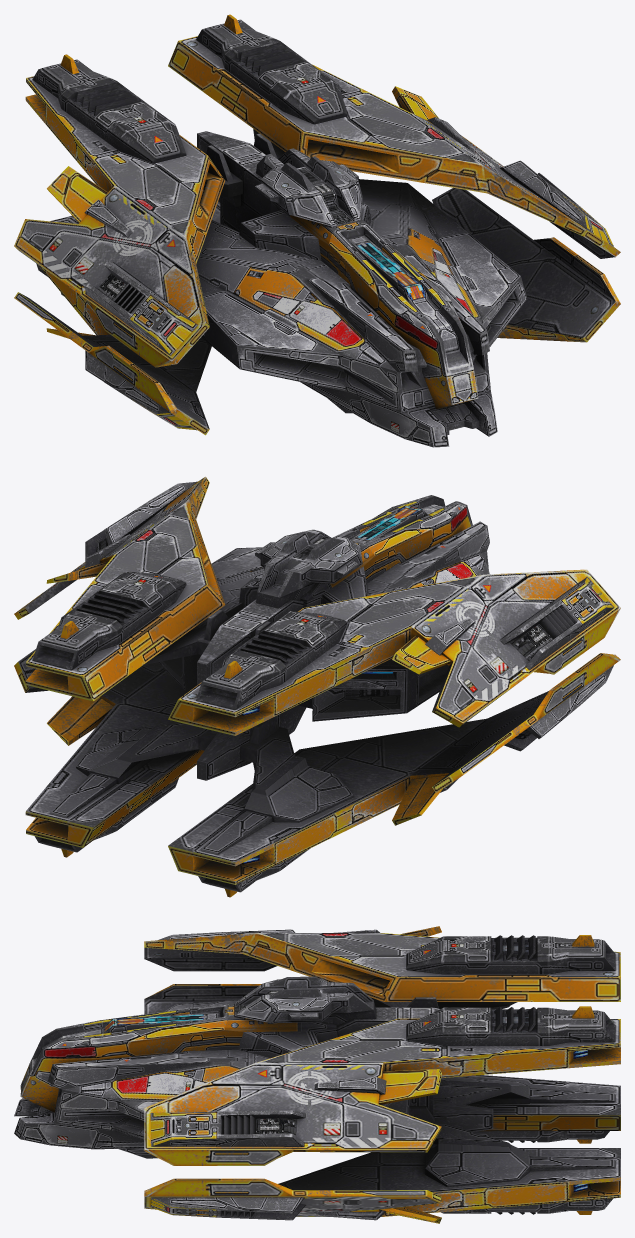
The model's file is SciFi_Fighter_AK5.FBX.
3 renders of one model, top to bottom at view 1: azimuth 30°, elevation 25°; view 2: azimuth 150°, elevation 25°; view 3: azimuth 270°, elevation 25°, orthographic. The views are drawn at different scales.
Visible parts, largest first — view 1: SciFi_Fighter_AK5; view 2: SciFi_Fighter_AK5; view 3: SciFi_Fighter_AK5.
Boxes of the visible parts, x1=… form: SciFi_Fighter_AK5: x1=14, y1=14, x2=620, y2=447; SciFi_Fighter_AK5: x1=14, y1=476, x2=620, y2=897; SciFi_Fighter_AK5: x1=14, y1=926, x2=620, y2=1223.
Bounding box in the file's own units: 1544 × 748 × 1982.
